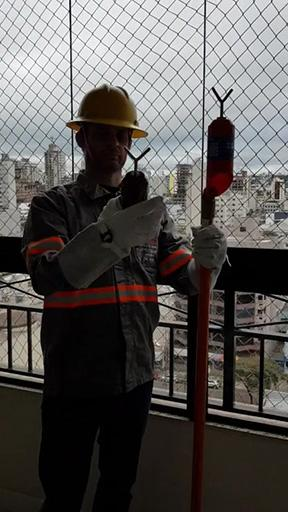Detector_Tensao_Contato: (206, 84, 235, 196), (122, 144, 153, 227)
Vara_Manobra: (191, 193, 216, 512)
